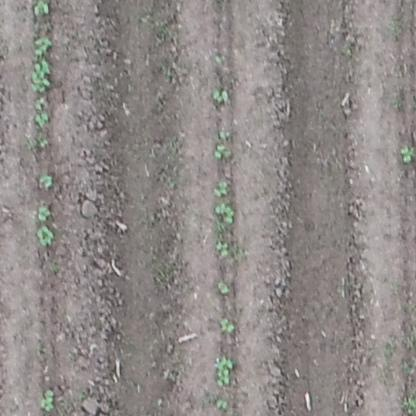vc: (212, 352, 238, 389), (29, 60, 50, 95), (213, 203, 235, 225), (37, 389, 57, 411), (37, 224, 56, 246), (212, 142, 232, 162), (33, 36, 52, 56), (211, 178, 229, 199), (397, 143, 415, 163), (213, 85, 231, 104), (37, 173, 54, 191), (35, 109, 50, 128), (216, 239, 231, 258), (32, 1, 50, 16), (217, 279, 231, 296), (38, 202, 50, 221), (222, 316, 235, 333), (216, 399, 231, 412)
